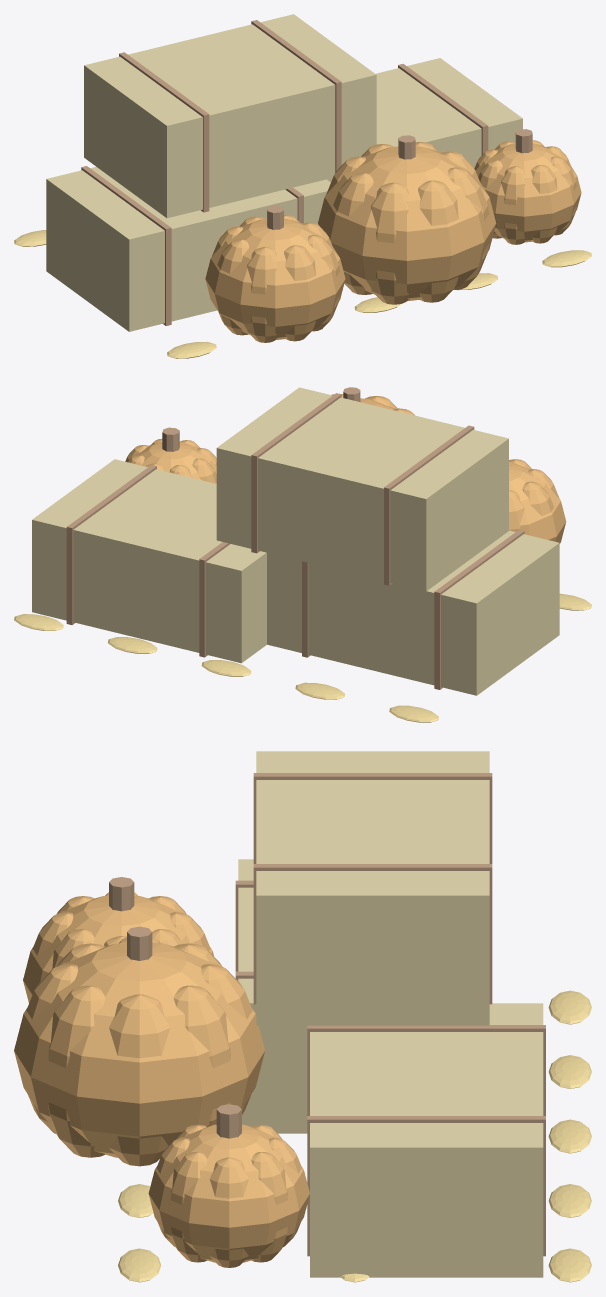
The model's file is remaster_decor_harvest.glb.
The picture shows the model from 3 angles, top to bottom: view 1: azimuth 30°, elevation 25°; view 2: azimuth 150°, elevation 25°; view 3: azimuth 270°, elevation 25°; orthographic projection. The views are drawn at different scales.
Visible parts, largest first — view 1: Hay bale.005, Hay bale.003, Pumpkin.004, Hay bale.004, Pumpkin.003, Pumpkin.005, Pumpkin lobe.037, Pumpkin lobe.038, Pumpkin lobe.029, Bale binding.010, Bale binding.006, Pumpkin lobe.036 (+12 smaller); view 2: Hay bale.005, Hay bale.004, Hay bale.003, Pumpkin.003, Bale binding.009, Bale binding.006, Bale binding.011, Bale binding.010, Pumpkin.005, Bale binding.008, Bale binding.007, Pumpkin lobe.028 (+6 smaller); view 3: Hay bale.005, Hay bale.004, Pumpkin.004, Pumpkin.005, Hay bale.003, Pumpkin lobe.032, Pumpkin.003, Pumpkin lobe.039, Pumpkin lobe.033, Bale binding.011, Bale binding.009, Bale binding.010 (+19 smaller).
Part boxes in pixels (box(x1,y1,x2,y2)): Hay bale.005: box(84, 14, 376, 218); Hay bale.003: box(46, 166, 330, 331); Pumpkin.004: box(318, 146, 496, 301); Hay bale.004: box(327, 58, 522, 182); Pumpkin.003: box(205, 218, 345, 339); Pumpkin.005: box(475, 143, 581, 242); Pumpkin lobe.037: box(371, 182, 408, 304); Pumpkin lobe.038: box(418, 180, 458, 302); Pumpkin lobe.029: box(247, 247, 276, 342); Bale binding.010: box(119, 52, 209, 212); Bale binding.006: box(81, 166, 171, 325); Pumpkin lobe.036: box(333, 172, 373, 294); Hay bale.005: box(216, 387, 508, 591); Hay bale.004: box(32, 459, 266, 663); Hay bale.003: box(267, 530, 559, 695); Pumpkin.003: box(509, 462, 566, 543); Bale binding.009: box(66, 465, 156, 624); Bale binding.006: box(434, 529, 524, 689); Bale binding.011: box(251, 393, 341, 553); Bale binding.010: box(384, 425, 474, 585); Pumpkin.005: box(128, 442, 216, 483); Bale binding.008: box(199, 542, 230, 657); Bale binding.007: box(302, 561, 310, 657); Pumpkin lobe.028: box(522, 481, 553, 515); Hay bale.005: box(256, 751, 489, 1025); Hay bale.004: box(310, 1003, 543, 1277); Pumpkin.004: box(14, 942, 265, 1157); Pumpkin.005: box(148, 1124, 309, 1262); Hay bale.003: box(238, 859, 307, 1133); Pumpkin lobe.032: box(109, 994, 169, 1166); Pumpkin.003: box(23, 895, 213, 1002); Pumpkin lobe.039: box(48, 985, 105, 1157); Pumpkin lobe.033: box(173, 985, 230, 1126); Bale binding.011: box(253, 864, 492, 1004); Bale binding.009: box(307, 1116, 545, 1256); Bale binding.010: box(253, 773, 492, 863).
Size of the model in its own units: 4 by 1.69 by 3.22.
